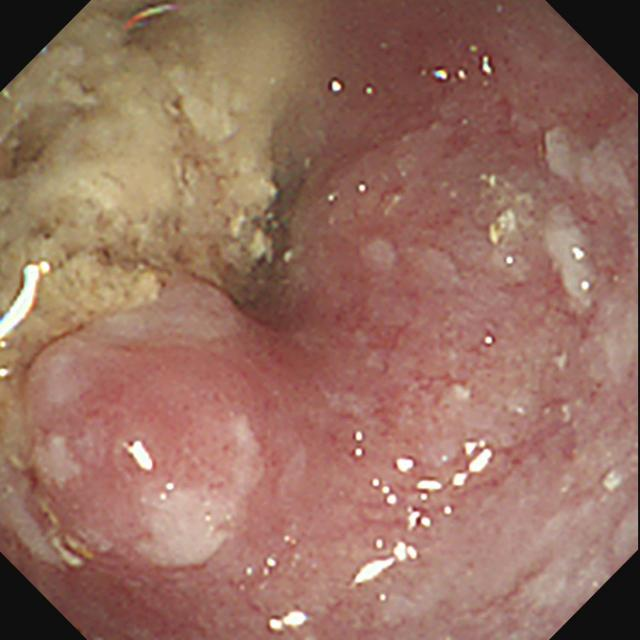A: (315, 132, 556, 488), (25, 292, 272, 568)
B: (2, 2, 291, 332)
U: (2, 260, 51, 341), (352, 538, 421, 587), (452, 439, 495, 491), (395, 456, 446, 493), (432, 57, 497, 84), (267, 611, 308, 636), (125, 440, 155, 474), (575, 247, 593, 295), (405, 504, 435, 531), (373, 480, 400, 505), (351, 430, 367, 458), (330, 79, 345, 95)
